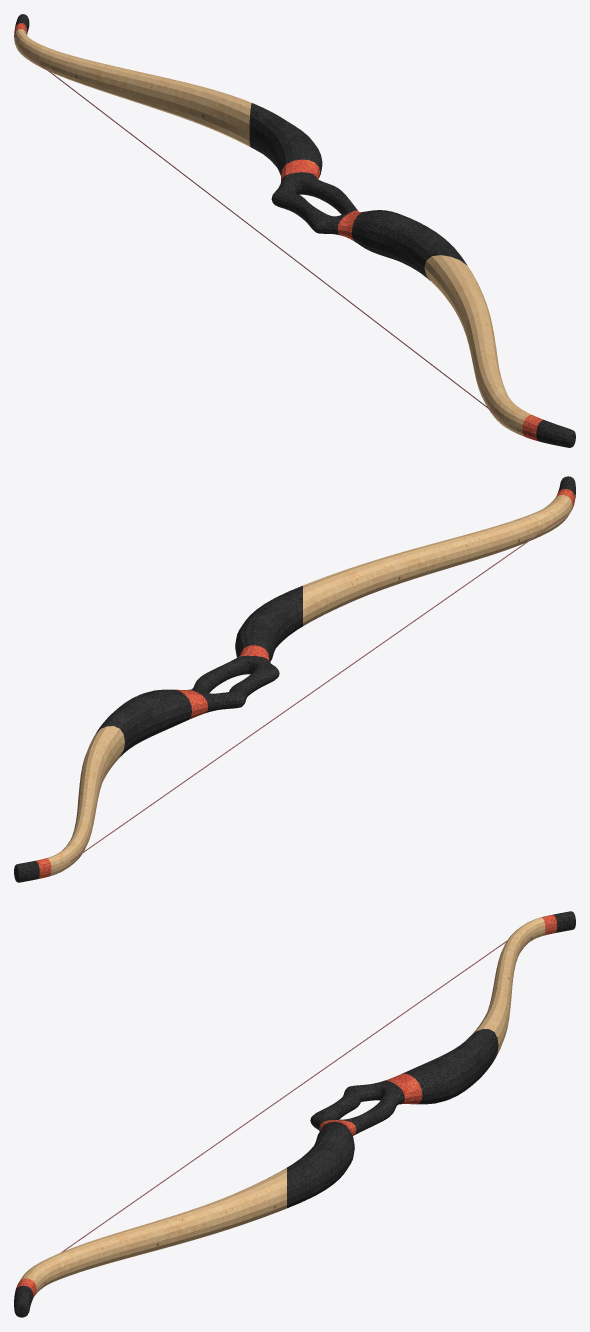
File: Bow.obj
3 renders of one model, top to bottom at view 1: azimuth 30°, elevation 25°; view 2: azimuth 150°, elevation 25°; view 3: azimuth 330°, elevation 25°, orthographic. The views are drawn at different scales.
Parts seen in each view (by area): view 1: Box001, Line001; view 2: Box001, Line001; view 3: Box001, Line001.
Boxes of the visible parts, <box> form: Box001: <box>14,14,575,447</box>; Line001: <box>21,49,505,421</box>; Box001: <box>14,476,575,882</box>; Line001: <box>70,515,564,861</box>; Box001: <box>14,911,575,1317</box>; Line001: <box>61,940,507,1252</box>.
Size of the model in its own units: 5.45 by 1.6 by 39.87.
